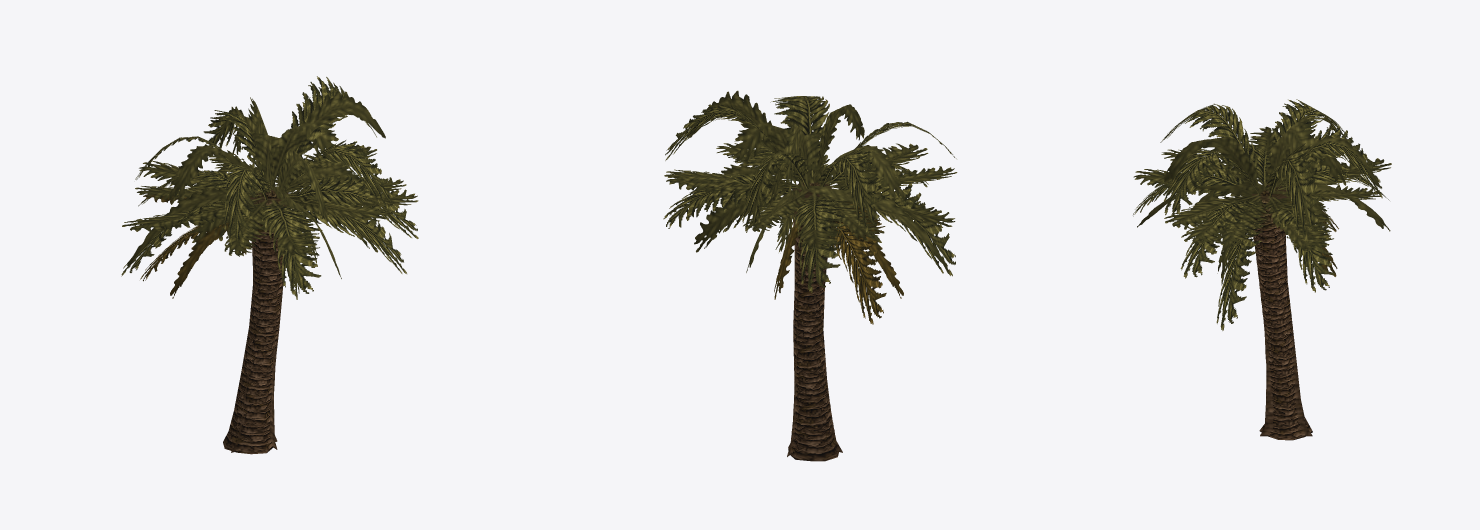
The model's file is Palmeira_03_Jovem_Baixa.glb.
3 views of the same model, side by side, from view 1: azimuth 30°, elevation 25°; view 2: azimuth 150°, elevation 25°; view 3: azimuth 270°, elevation 25° (orthographic). The views are drawn at different scales.
Visible parts, largest first — view 1: Palmeira_03_Jovem_Baixa impostor, Caule, Folhas novas, Folhas abertas, Folhas inferiores; view 2: Palmeira_03_Jovem_Baixa impostor, Folhas novas, Caule, Folhas abertas, Folhas inferiores; view 3: Palmeira_03_Jovem_Baixa impostor, Folhas novas, Caule, Folhas abertas, Folhas inferiores.
Boxes of the visible parts, x1,y1,x2,y2 form: Palmeira_03_Jovem_Baixa impostor: [122, 90, 418, 452]; Caule: [223, 229, 283, 454]; Folhas novas: [135, 76, 393, 246]; Folhas abertas: [121, 170, 418, 296]; Folhas inferiores: [140, 208, 406, 281]; Palmeira_03_Jovem_Baixa impostor: [664, 90, 957, 456]; Folhas novas: [665, 96, 956, 233]; Caule: [788, 224, 838, 461]; Folhas abertas: [663, 149, 955, 292]; Folhas inferiores: [723, 195, 886, 324]; Palmeira_03_Jovem_Baixa impostor: [1133, 116, 1391, 436]; Folhas novas: [1160, 99, 1382, 241]; Caule: [1253, 226, 1312, 440]; Folhas abertas: [1133, 141, 1389, 292]; Folhas inferiores: [1216, 200, 1338, 330].
Size of what is drawn, in the model's own units: 6.09 by 6.09 by 6.09.
Materials: 3 (3 with a texture image).
